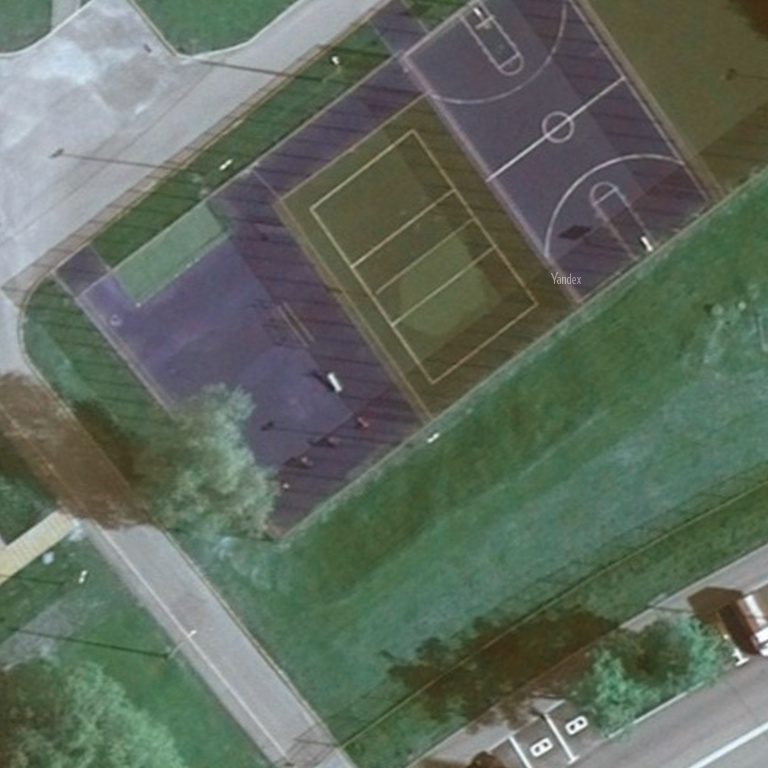basket_court: (395, 2, 736, 313)
